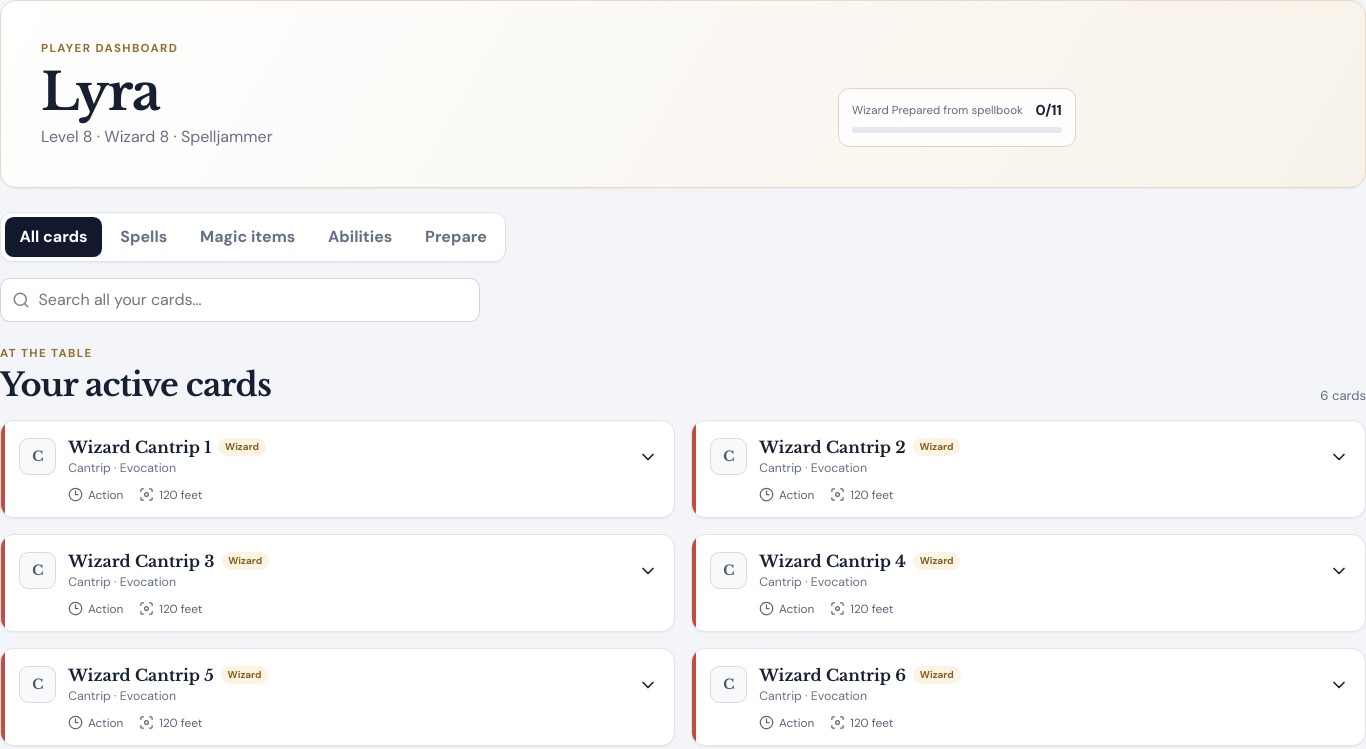
PlayerDashboard card search › does not count prepared cantrip assignments against a Wizard preparation limit
Expected: the element named "Wizard Prepared from spellbook: 0 of 11" is shown, [838,88,1076,147]
Click the tab "Prepare" at (456, 237), box [411,217,501,257]
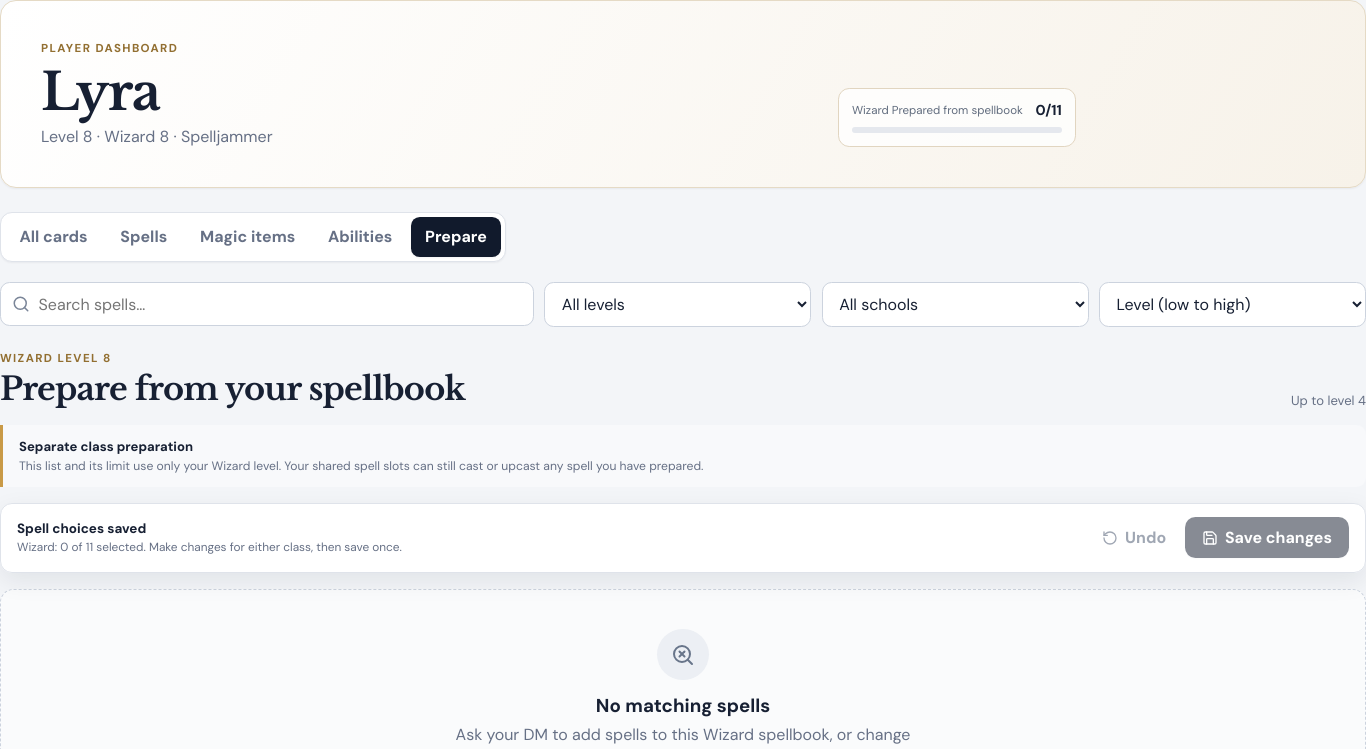
Now the text "Wizard: 0 of 11 selected. Make changes for either class, then save once." is shown, box [17,539,402,555]
